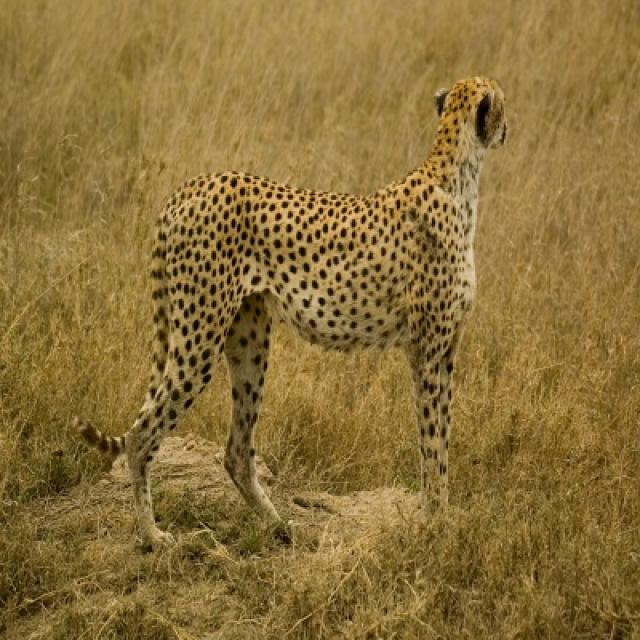Cheetah: (81, 71, 516, 553)
